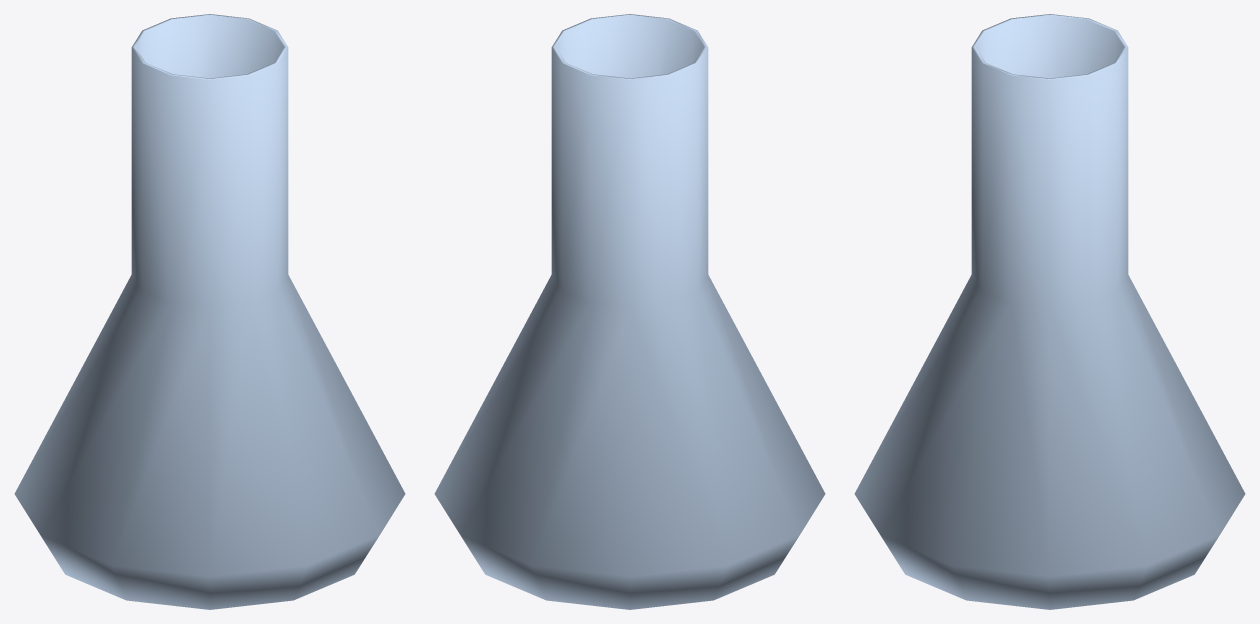
The model's file is flask-02.fbx.
3 renders of one model, left to right at view 1: azimuth 30°, elevation 25°; view 2: azimuth 150°, elevation 25°; view 3: azimuth 270°, elevation 25°, orthographic.
Parts seen in each view (by area): view 1: flask-02; view 2: flask-02; view 3: flask-02.
Boxes of the visible parts, box(x1,y1,x2,y2) form: flask-02: box(14, 14, 405, 609); flask-02: box(434, 14, 825, 609); flask-02: box(854, 14, 1245, 609).
Bounding box in the file's own units: 9.36 × 13 × 9.36.
